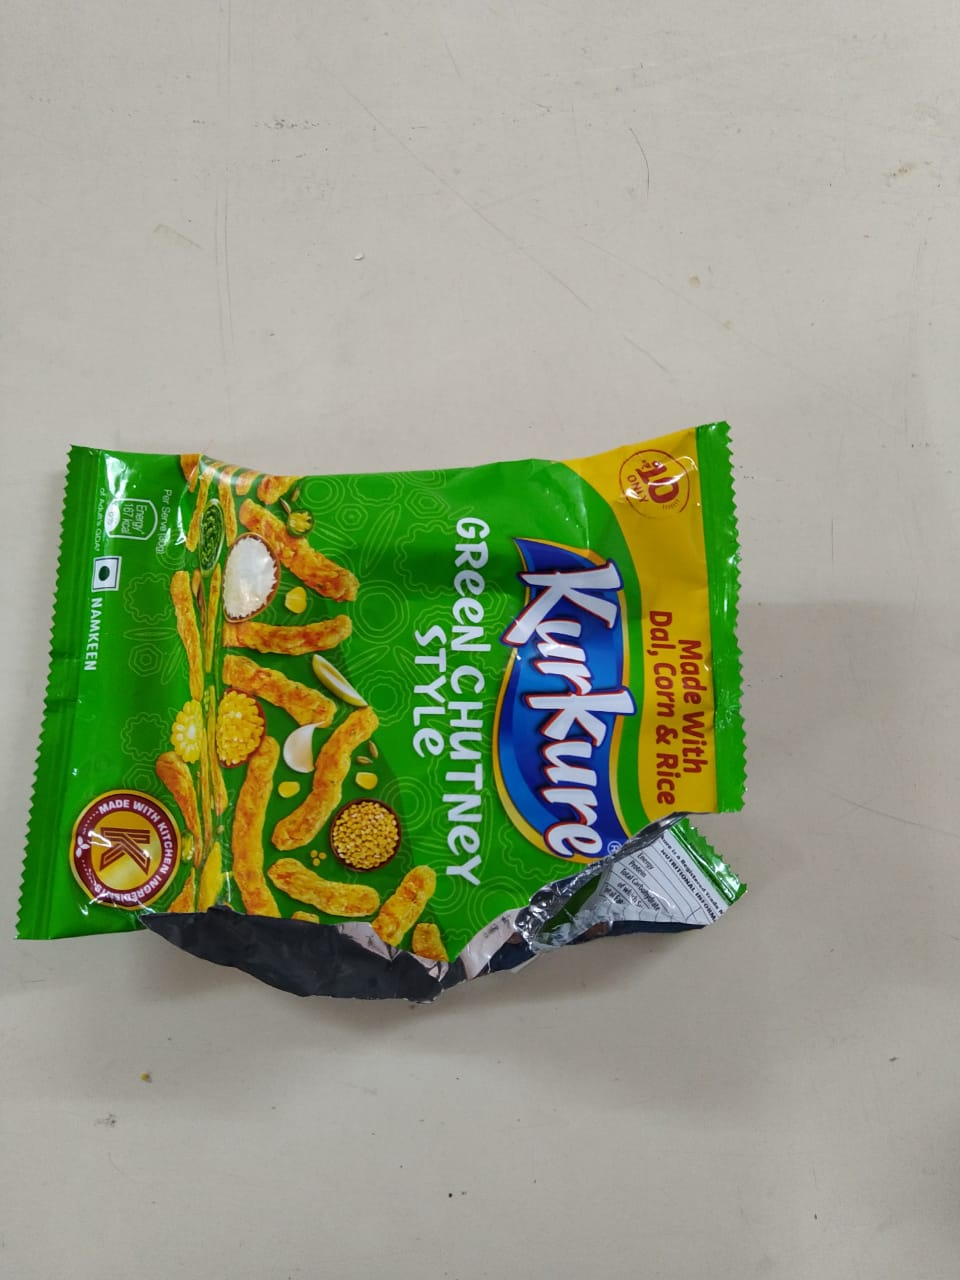kurkure: (482, 499, 637, 931), (490, 523, 631, 898), (508, 555, 653, 884)
plastic: (23, 399, 745, 986)
wrapper: (41, 414, 763, 970)
